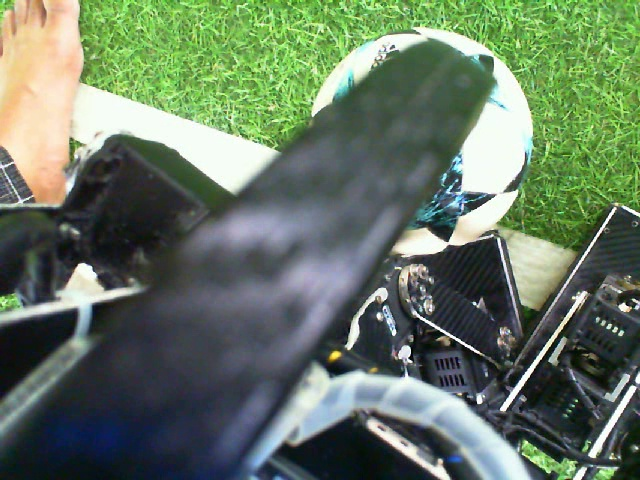ball: (370, 75, 534, 264)
